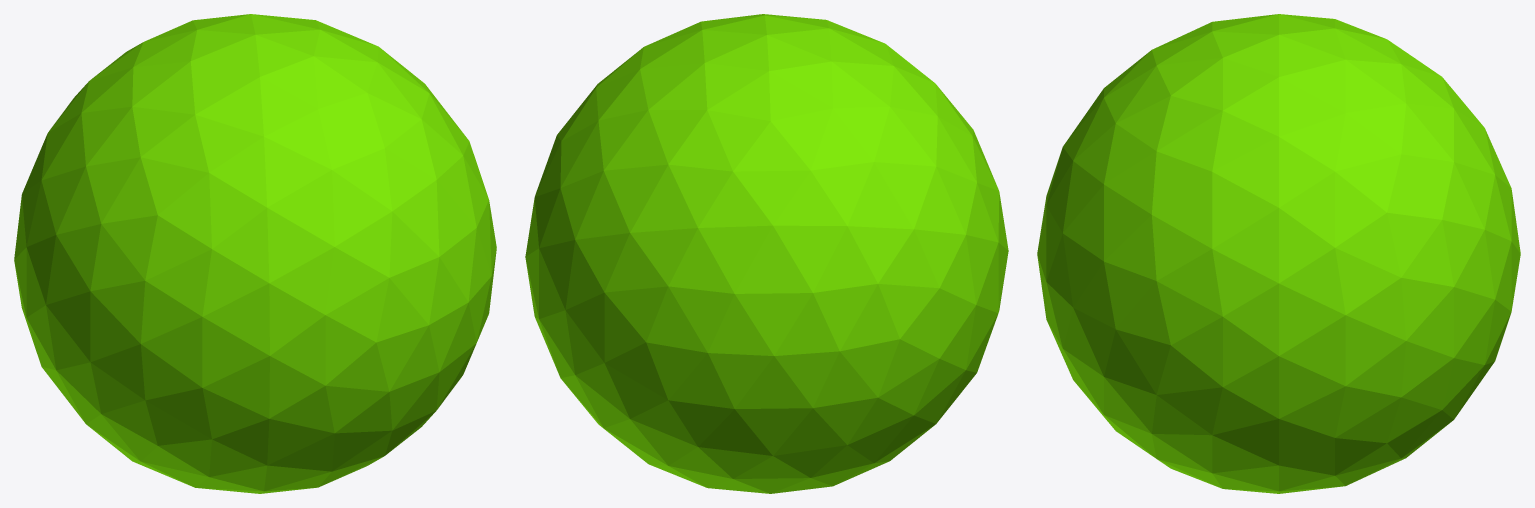
Rendered from calcium.fbx.
3 renders of one model, left to right at view 1: azimuth 30°, elevation 25°; view 2: azimuth 150°, elevation 25°; view 3: azimuth 270°, elevation 25°, orthographic.
Parts seen in each view (by area): view 1: Shape_IndexedFaceSet; view 2: Shape_IndexedFaceSet; view 3: Shape_IndexedFaceSet.
Part boxes in pixels (x1,y1,x2,y2): Shape_IndexedFaceSet: (14, 14, 496, 493); Shape_IndexedFaceSet: (525, 14, 1008, 493); Shape_IndexedFaceSet: (1037, 14, 1520, 493).
Bounding box in the file's own units: 1062 × 1062 × 1062.
